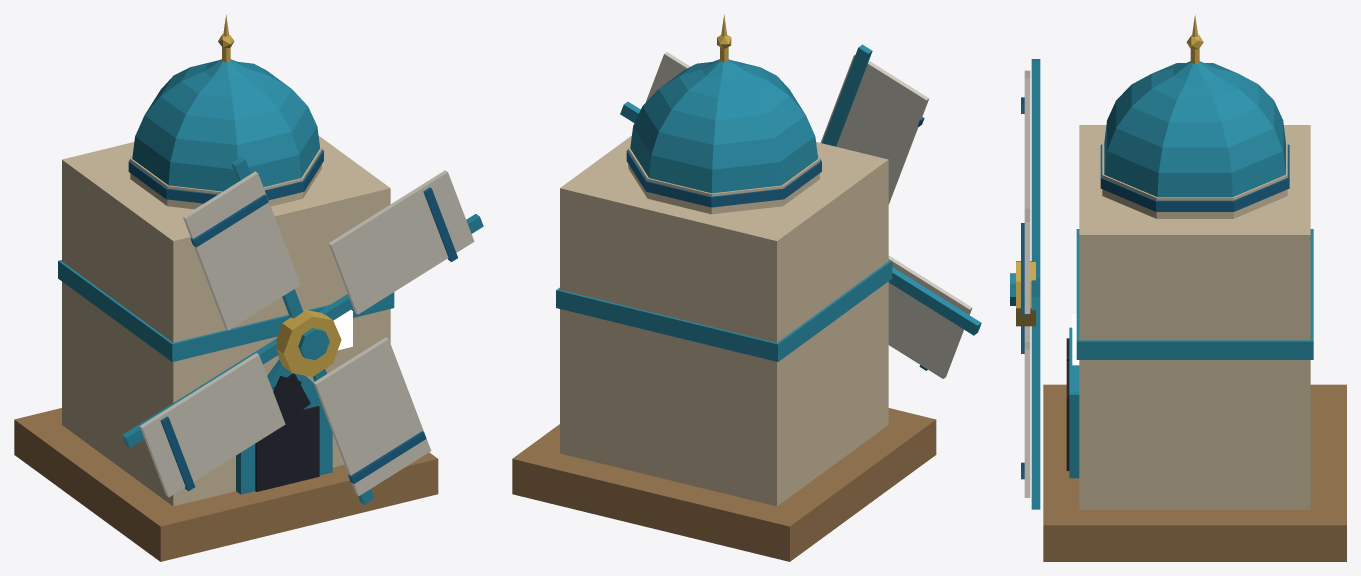
File: mill_t1.glb
3 views of the same model, side by side, from view 1: azimuth 30°, elevation 25°; view 2: azimuth 150°, elevation 25°; view 3: azimuth 270°, elevation 25° (orthographic). The views are drawn at different scales.
Visible parts, largest first — view 1: body, part_rotor; view 2: body, part_rotor; view 3: body, part_rotor.
Boxes of the visible parts, left/top/right/bottom form: body: left=14, top=15, right=438, bottom=561; part_rotor: left=122, top=156, right=483, bottom=504; body: left=512, top=15, right=936, bottom=561; part_rotor: left=620, top=44, right=981, bottom=378; body: left=1043, top=14, right=1346, bottom=561; part_rotor: left=1010, top=59, right=1040, bottom=509.
Size of the model in its own units: 1.48 by 1.82 by 1.16.
